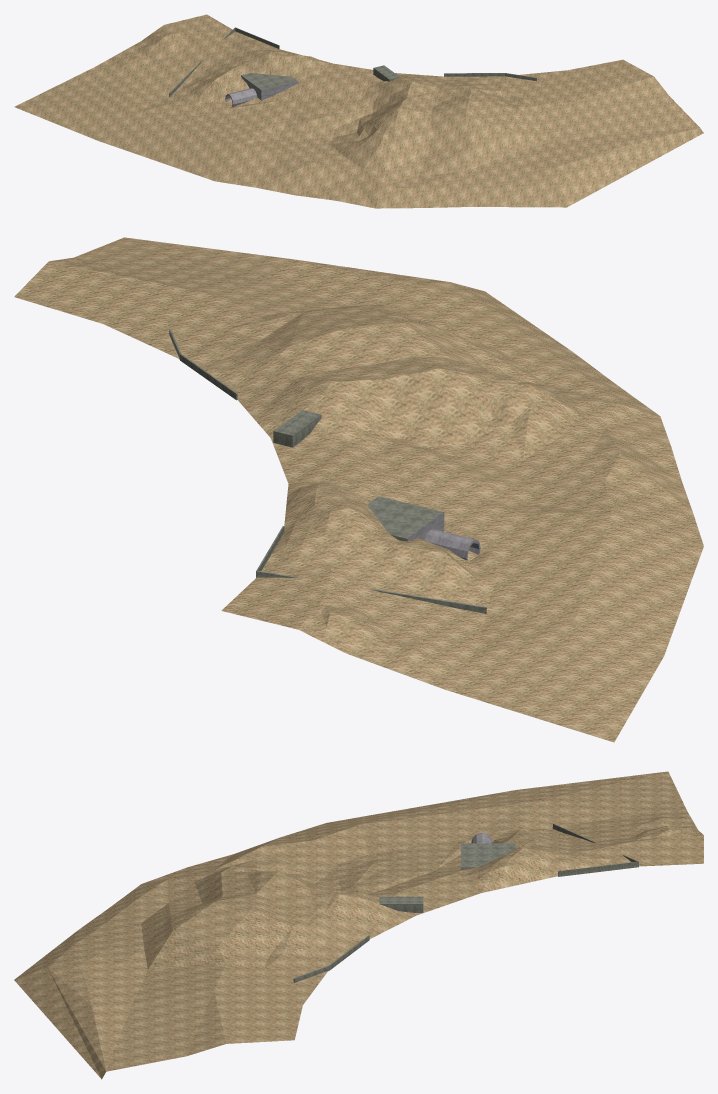
The model's file is beach1_las2.obj.
3 renders of one model, top to bottom at view 1: azimuth 30°, elevation 25°; view 2: azimuth 150°, elevation 25°; view 3: azimuth 270°, elevation 25°, orthographic. The views are drawn at different scales.
Visible parts, largest first — view 1: Beach1_las2; view 2: Beach1_las2; view 3: Beach1_las2.
Boxes of the visible parts, x1,y1,x2,y2 form: Beach1_las2: (14,14,703,208); Beach1_las2: (14,237,703,742); Beach1_las2: (14,771,703,1079).
Bounding box in the file's own units: 224 × 20.79 × 204.
